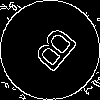B: (25, 25, 80, 81)
